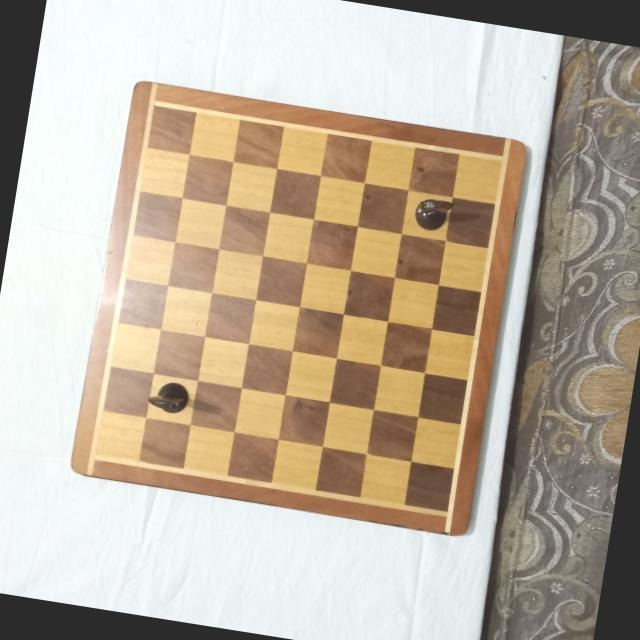black-knight: (145, 377, 193, 418), (413, 194, 455, 233)
